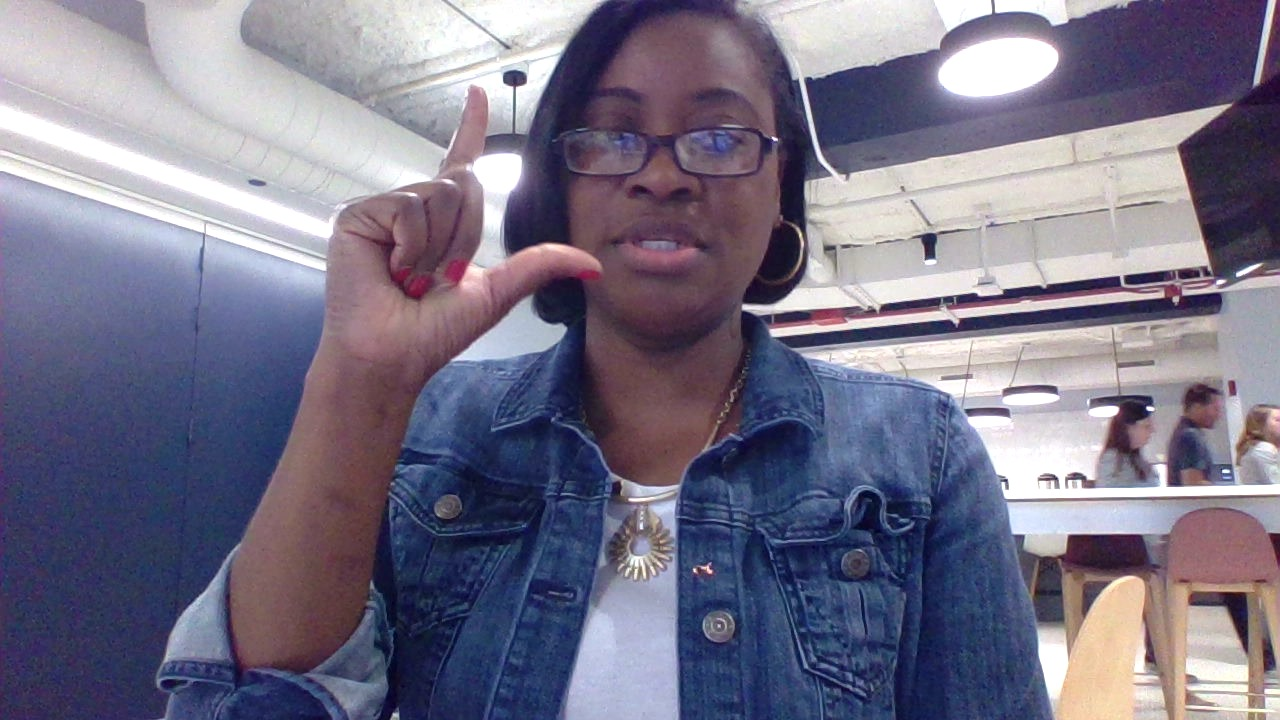l: (292, 76, 616, 398)
